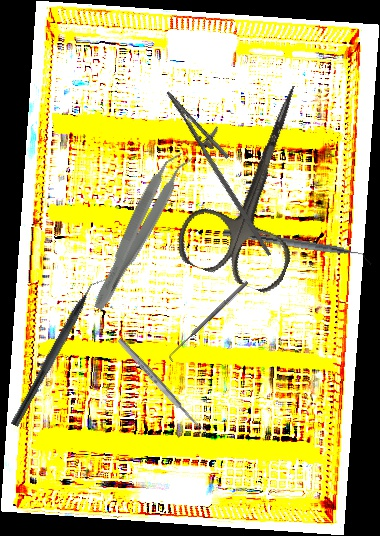Chopper: (10, 271, 110, 433), (221, 228, 374, 268)
Hook Surgical: (165, 279, 253, 363)
Iris Scissors: (170, 66, 349, 298)
Needle Holder: (147, 80, 302, 258)
Surgical Spoon: (116, 336, 208, 438)
Tissue Forceps: (87, 146, 195, 317)
